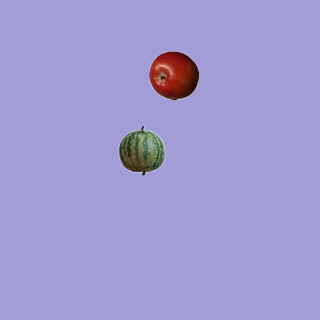Apple Braeburn: (148, 50, 198, 100)
Watermelon: (116, 125, 166, 175)
